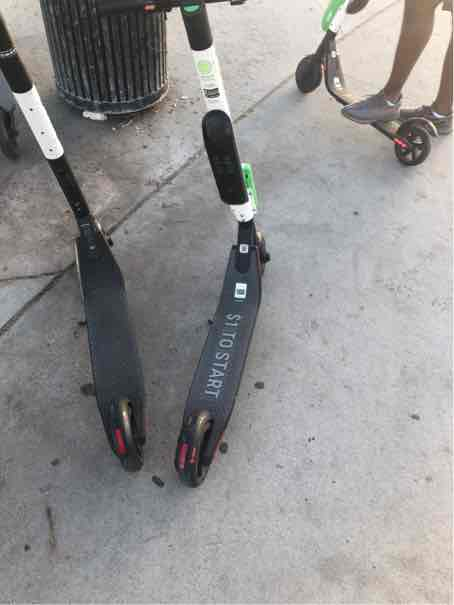scooter: (95, 6, 307, 501), (301, 6, 425, 183)
